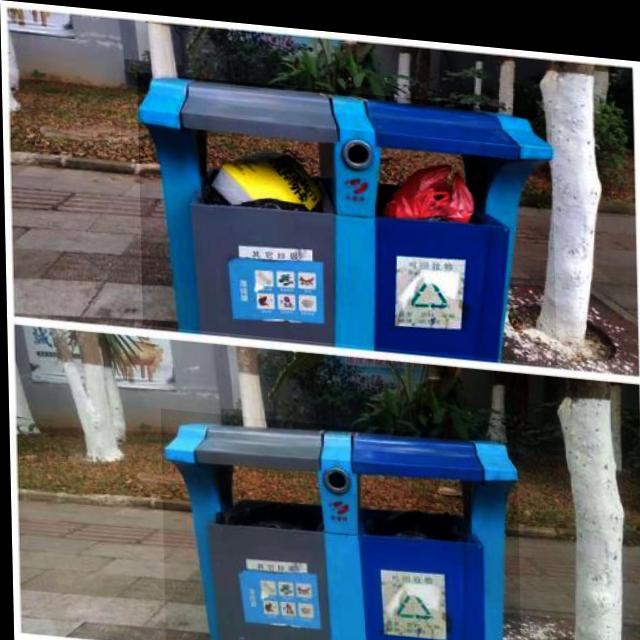garbage_bin: (159, 406, 519, 640)
overflow: (137, 69, 556, 354)
